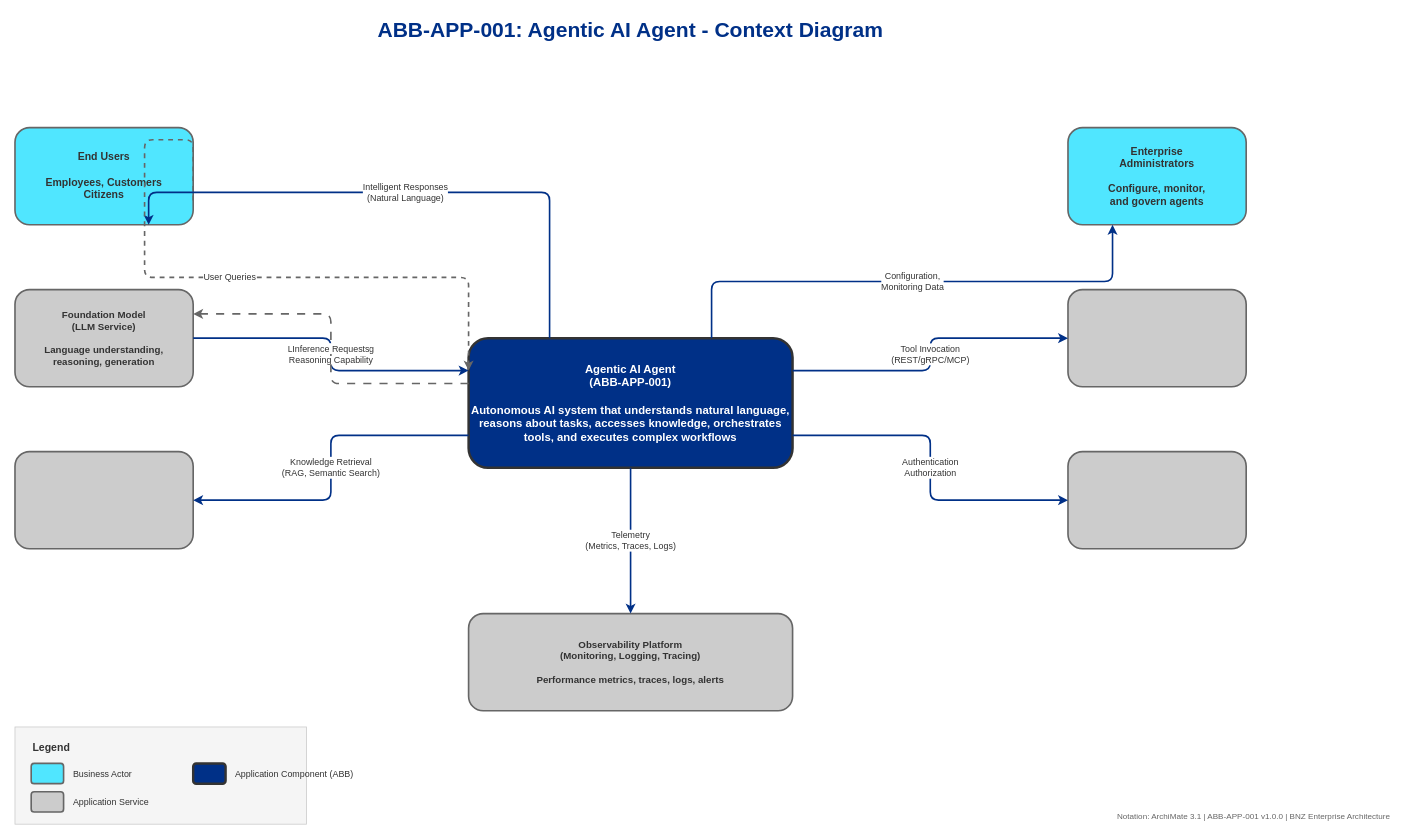
This 1405x838 diagram has some shape labels left out. Each missing label, with the centre of its shape:
External Tools & APIs (Integration Layer) CRM, ERP, HR, ticketing systems: (1157,337)
Identity Provider (SSO, IAM) Authentication, authorization, RBAC: (1157,499)
Knowledge Sources (RAG, Databases) Enterprise data, documents, APIs: (104,499)
